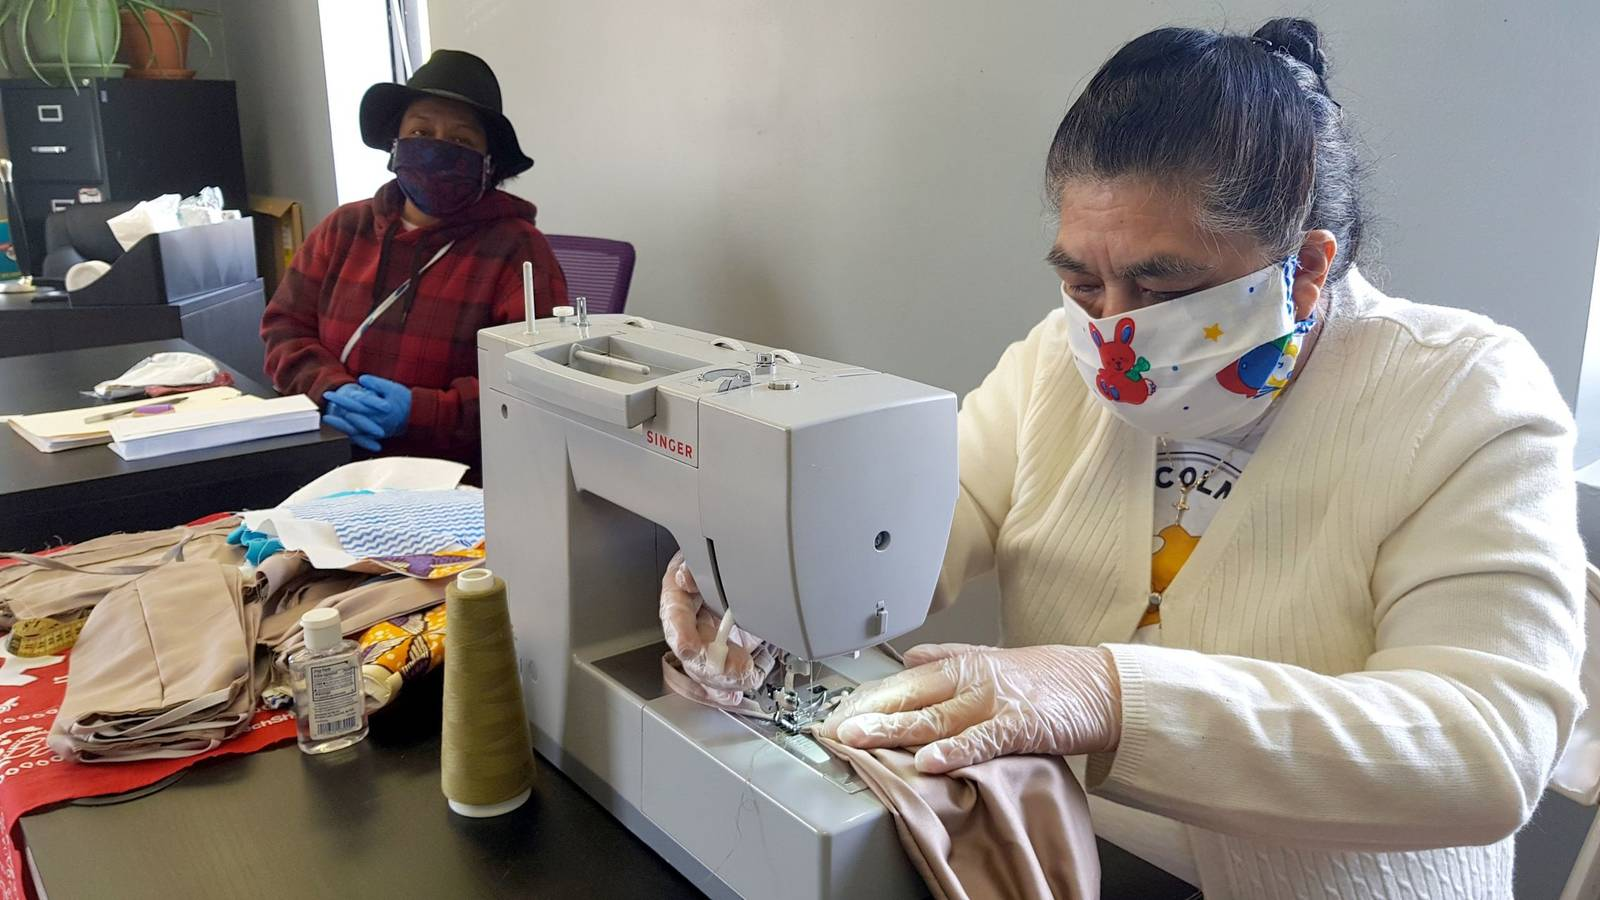with_mask: (1025, 93, 1345, 428), (368, 77, 508, 225)
